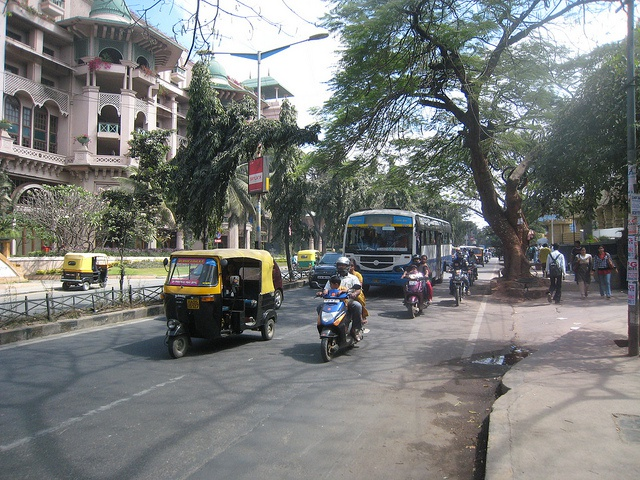non-vehicle: (308, 280, 362, 361), (404, 273, 429, 318), (444, 271, 469, 305), (467, 262, 475, 285), (452, 255, 462, 269)
